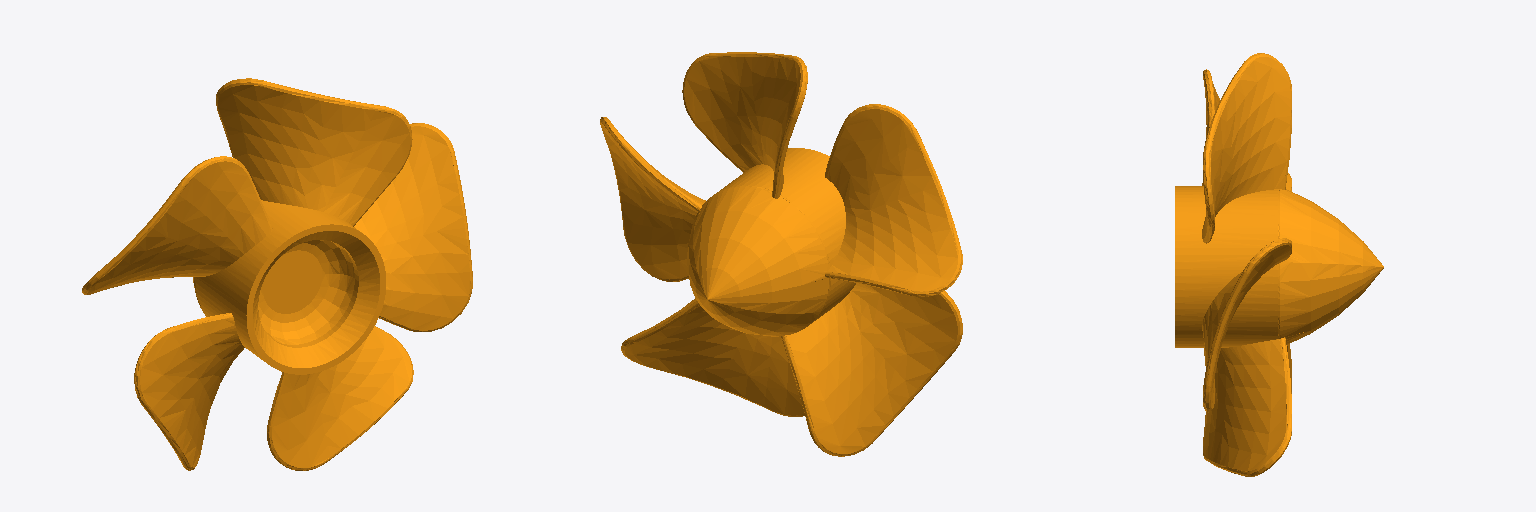
The picture shows the model from 3 angles: view 1: azimuth 30°, elevation 25°; view 2: azimuth 150°, elevation 25°; view 3: azimuth 270°, elevation 25°; orthographic projection.
Visible parts, largest first — view 1: Sketchfab_Model; view 2: Sketchfab_Model; view 3: Sketchfab_Model.
Boxes of the visible parts, <box> form: Sketchfab_Model: <box>82,78,472,470</box>; Sketchfab_Model: <box>600,52,962,456</box>; Sketchfab_Model: <box>1175,53,1383,476</box>.
Size of the model in its own units: 0.5431 by 0.5459 by 0.2706.
Materials: 1 (1 with a texture image).